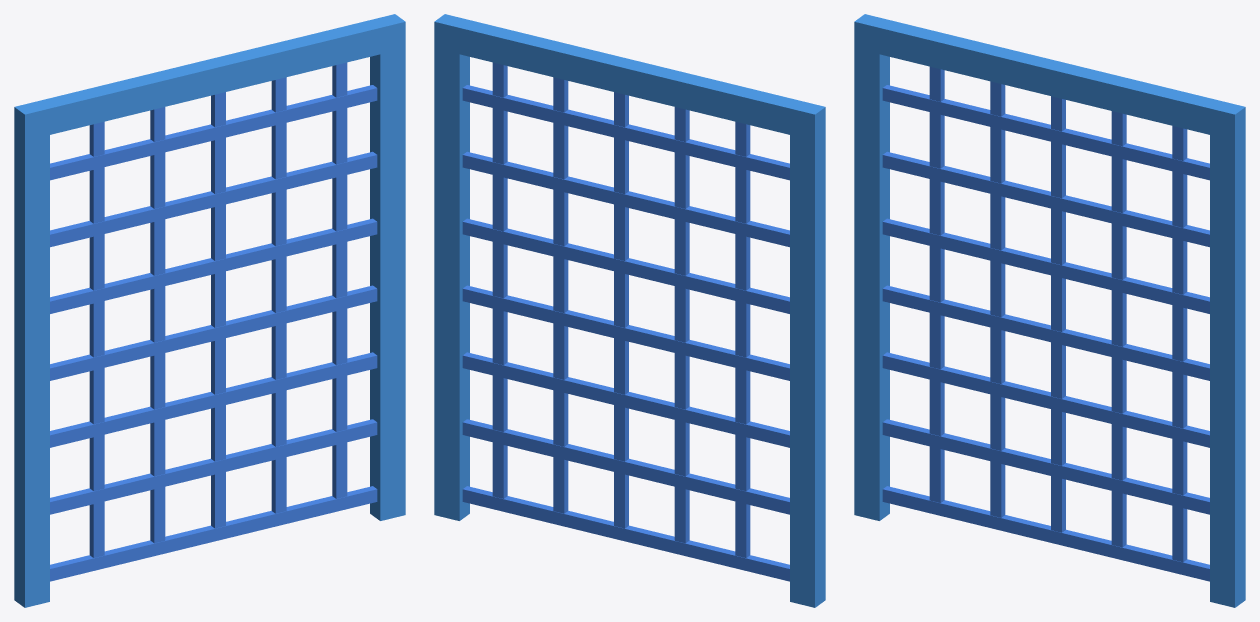
The model's file is Fence_1_G_2.fbx.
3 renders of one model, left to right at view 1: azimuth 30°, elevation 25°; view 2: azimuth 150°, elevation 25°; view 3: azimuth 330°, elevation 25°, orthographic.
Parts seen in each view (by area): view 1: Fence_1_G_2; view 2: Fence_1_G_2; view 3: Fence_1_G_2.
Boxes of the visible parts, x1=… form: Fence_1_G_2: x1=14, y1=14, x2=405, y2=607; Fence_1_G_2: x1=434, y1=14, x2=825, y2=607; Fence_1_G_2: x1=854, y1=14, x2=1245, y2=607.
Size of the model in its own units: 200 by 248 by 9.6.
